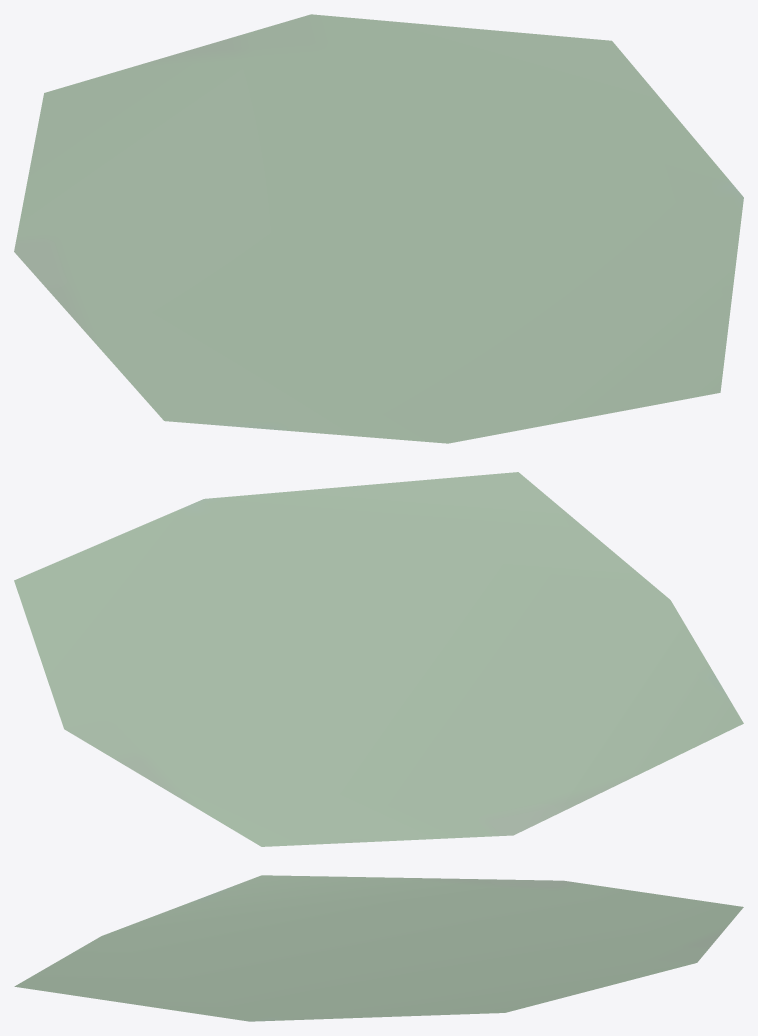
Rendered from TROLLHOLE02_HOLECAP123.fbx.
3 renders of one model, top to bottom at view 1: azimuth 30°, elevation 25°; view 2: azimuth 150°, elevation 25°; view 3: azimuth 270°, elevation 25°, orthographic. The views are drawn at different scales.
Visible parts, largest first — view 1: TROLLHOLE02_HOLECAP123; view 2: TROLLHOLE02_HOLECAP123; view 3: TROLLHOLE02_HOLECAP123.
Part boxes in pixels (x1,y1,x2,y2): TROLLHOLE02_HOLECAP123: (14,14,743,443); TROLLHOLE02_HOLECAP123: (14,472,743,846); TROLLHOLE02_HOLECAP123: (14,875,743,1021).
Size of the model in its own units: 15729 by 2911 by 21260.
Materials: 1 (1 with a texture image).
